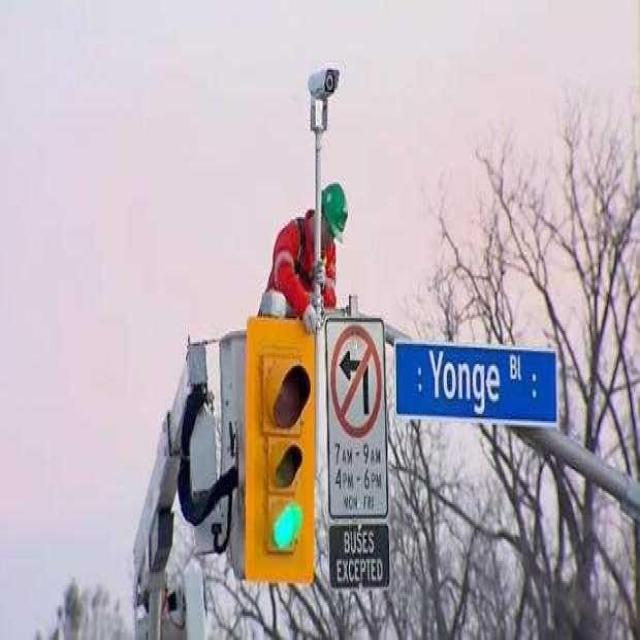Traffic Light -Green-: (256, 339, 312, 562)
